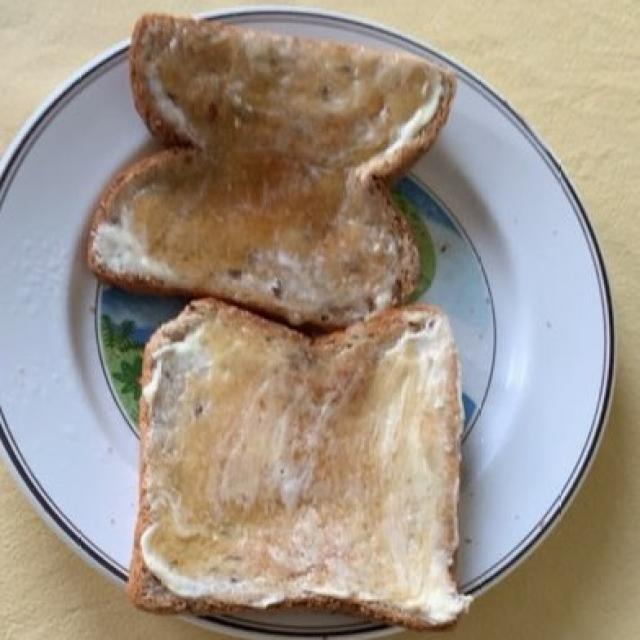bread: (91, 22, 461, 615)
honey: (135, 57, 401, 583)
